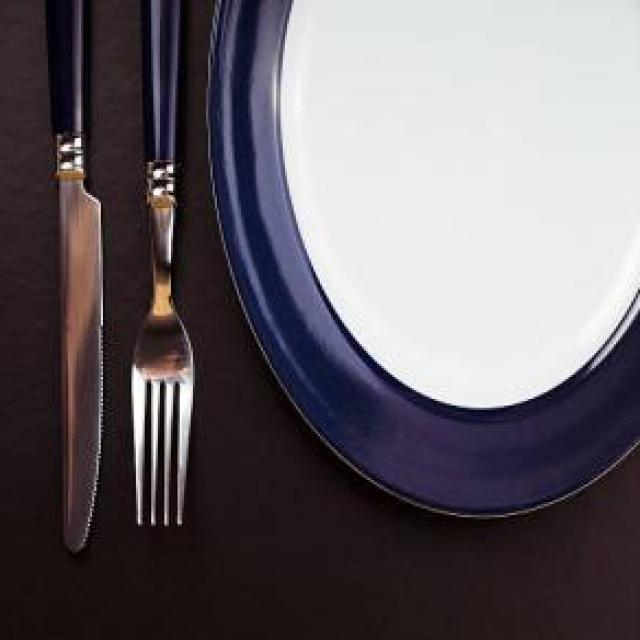knife: (40, 0, 106, 564)
